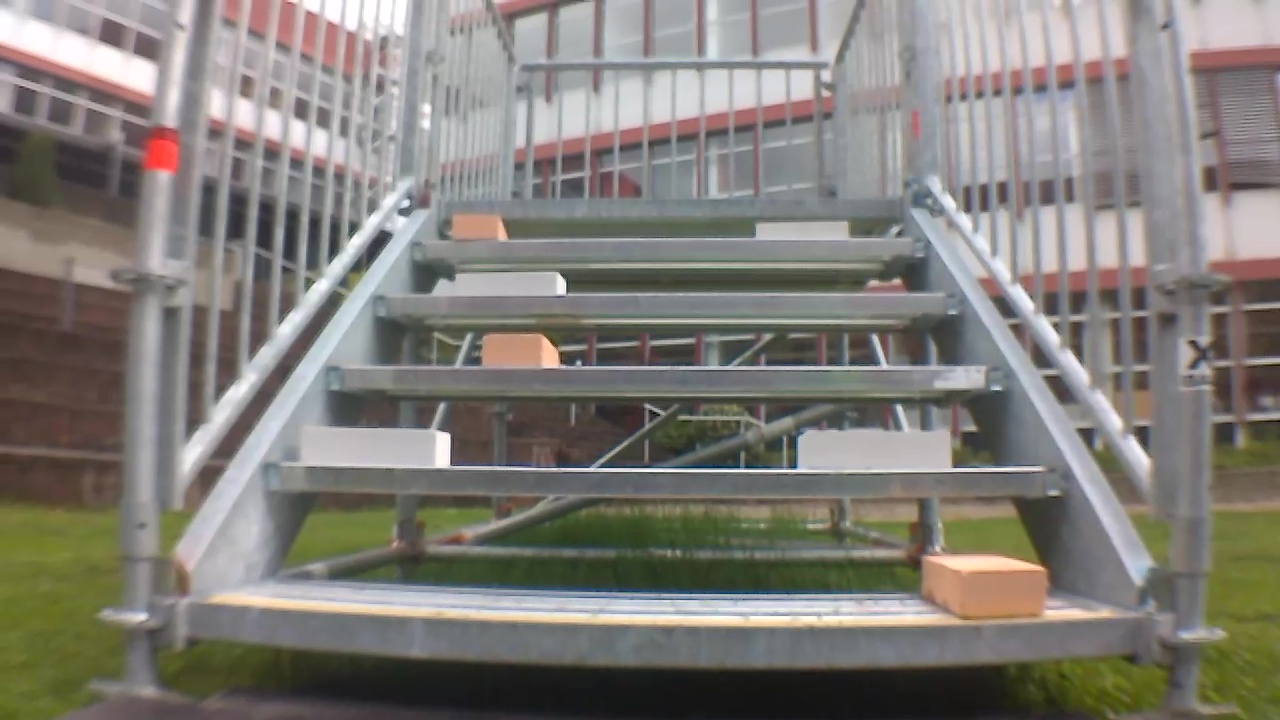brick: (925, 556, 1047, 618), (798, 431, 950, 470), (301, 425, 449, 465), (484, 335, 558, 368), (455, 273, 565, 293), (754, 221, 848, 239), (453, 214, 505, 239)
edge: (190, 602, 1146, 667), (265, 462, 1065, 496), (325, 366, 1008, 394), (373, 293, 965, 316), (415, 238, 927, 260), (439, 197, 907, 216)
stairs: (115, 2, 1217, 713)
steps: (183, 194, 1158, 683)
